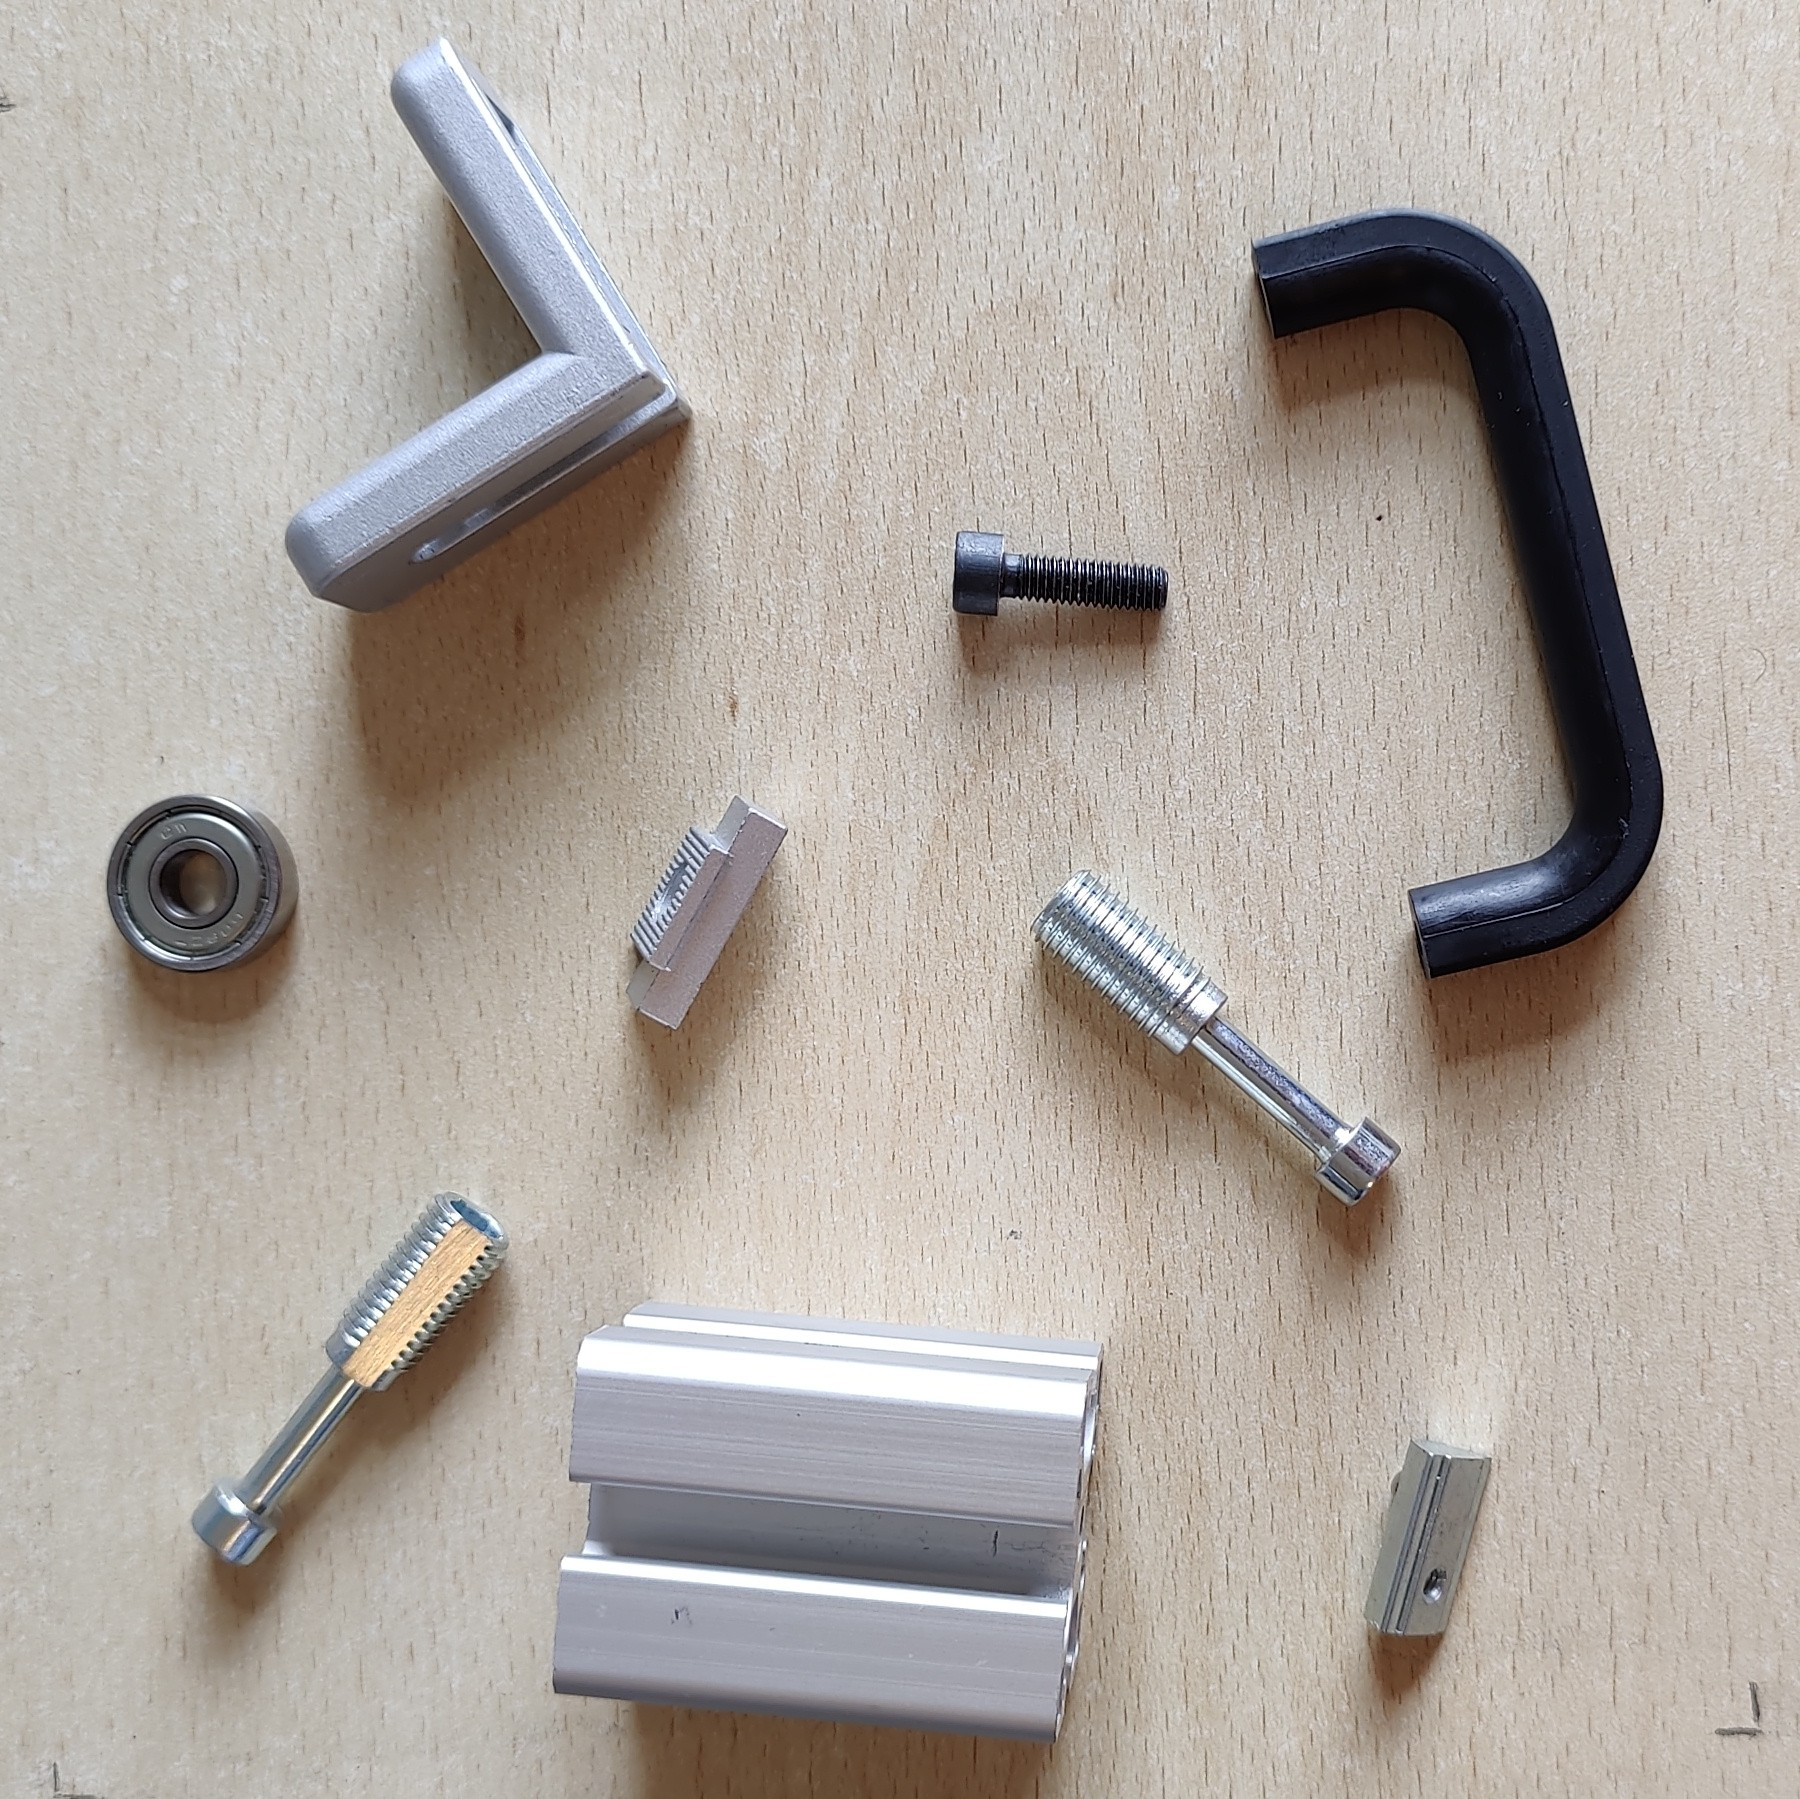Aluminium Extension: (548, 1298, 1108, 1748)
Ball Bearing: (105, 791, 301, 979)
Multiwinkel: (282, 31, 697, 614)
Pull Handle: (1248, 208, 1668, 985)
Shoulder Socket Head Cap Screw: (1028, 865, 1406, 1211), (188, 1189, 512, 1570)
Socket Head Cap Screw: (949, 527, 1169, 619)
T Nut Square: (623, 792, 790, 1030)
T Spring Nut: (1362, 1437, 1494, 1639)
